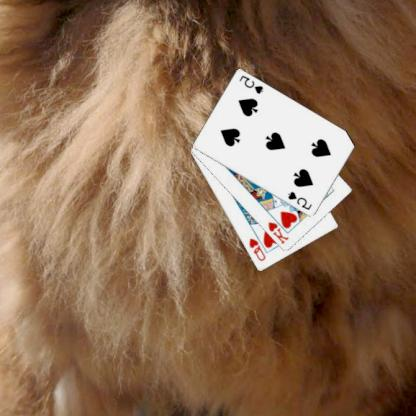5S: (287, 188, 315, 212), (238, 72, 266, 96)
KH: (267, 219, 292, 246)
QH: (248, 235, 269, 263)
